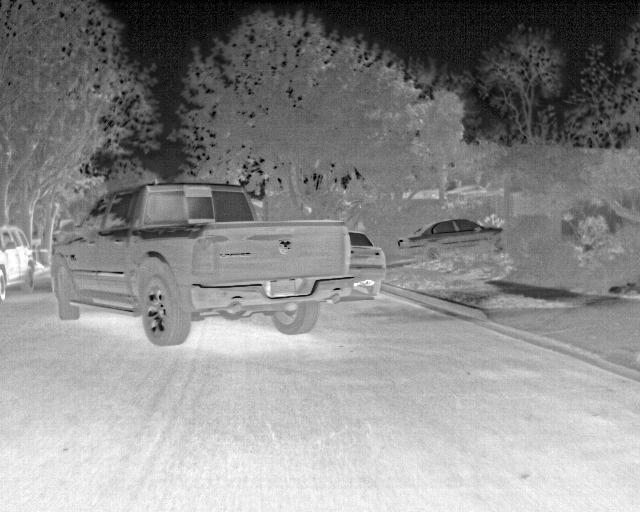car: (49, 185, 351, 362), (253, 196, 408, 323), (387, 206, 495, 261), (0, 212, 40, 308)
